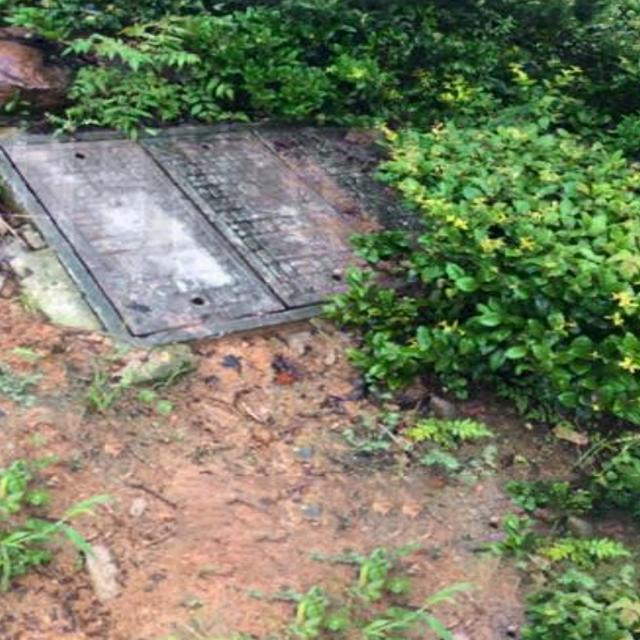good: (0, 113, 412, 344)
